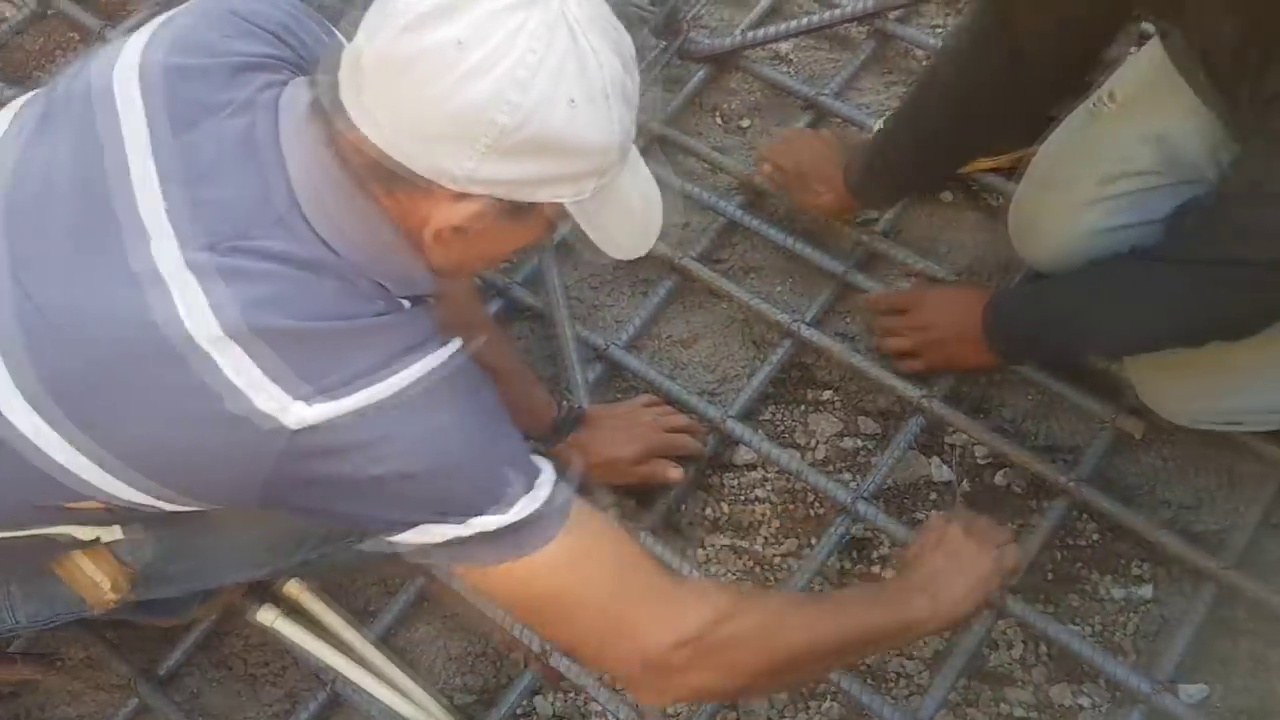helmet-off: (308, 2, 651, 274)
person: (22, 0, 732, 628), (797, 0, 1279, 452)
